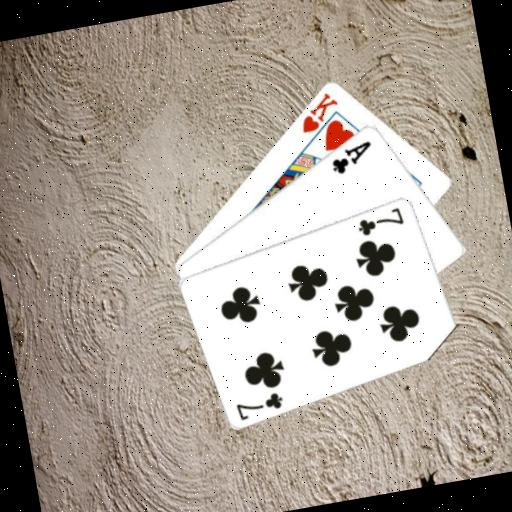7C: (352, 202, 407, 238), (231, 388, 287, 423)
AC: (325, 136, 377, 176)
KH: (293, 87, 344, 135)
